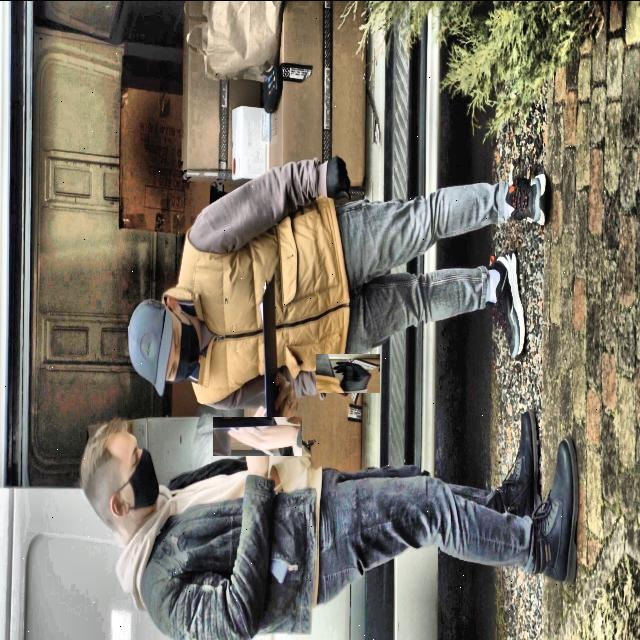gloved: (226, 402, 290, 468), (322, 346, 374, 398), (320, 138, 352, 204)
